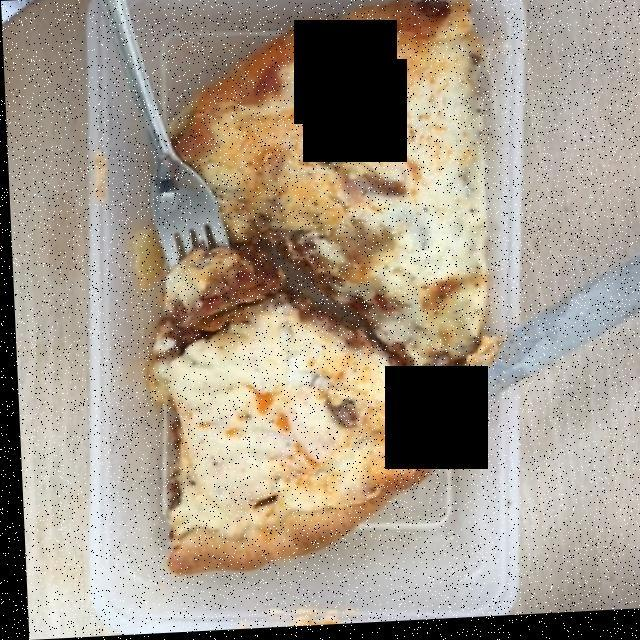bolognaise-sauce: (154, 27, 524, 582)
quiche: (163, 10, 496, 591)
